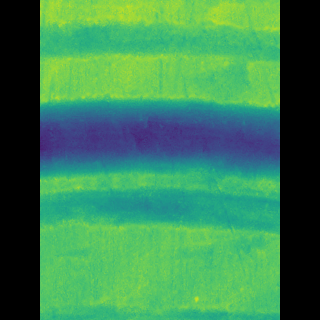Loch: (70, 0, 250, 239)
